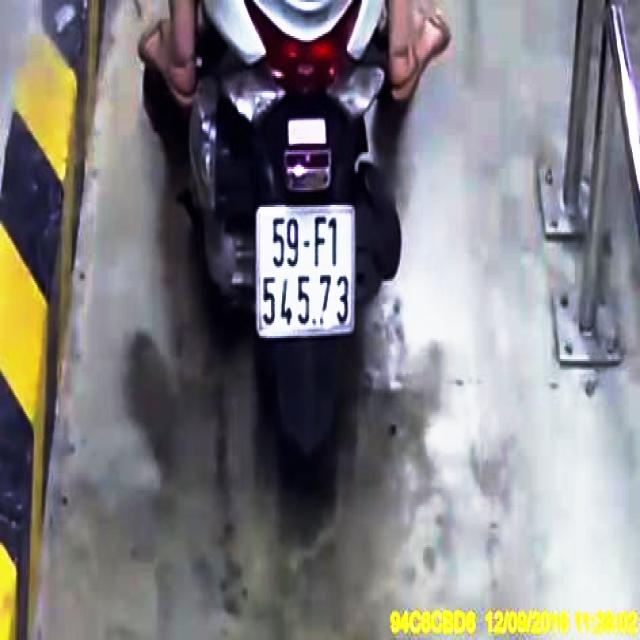license_plate: (258, 206, 356, 336)
